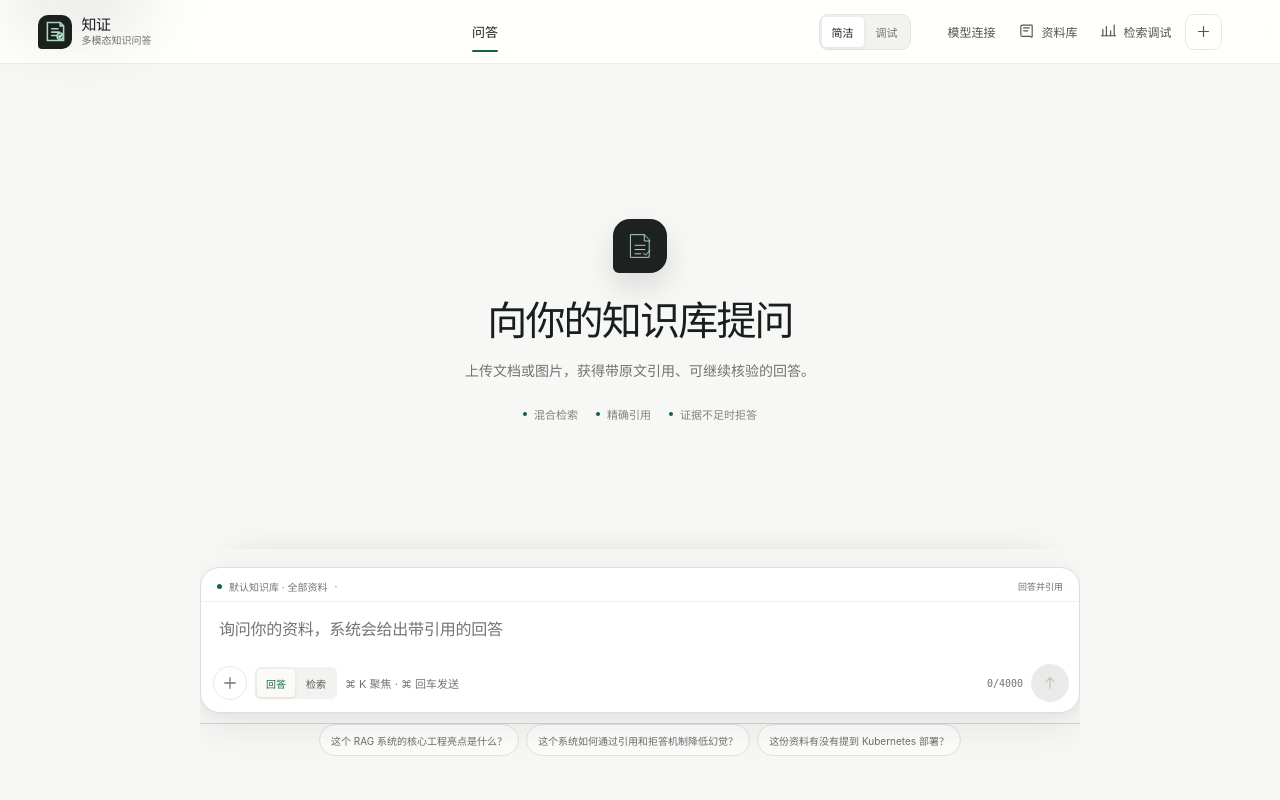
Test: WorkbenchPage workflows › keeps retrieved evidence visible when the answer provider returns no body
Type "只保留证据时应如何呈现？" into the text box named "question".
click(640, 629); type("只保留证据时应如何呈现？")  # box x1=201 y1=602 x2=1079 y2=656
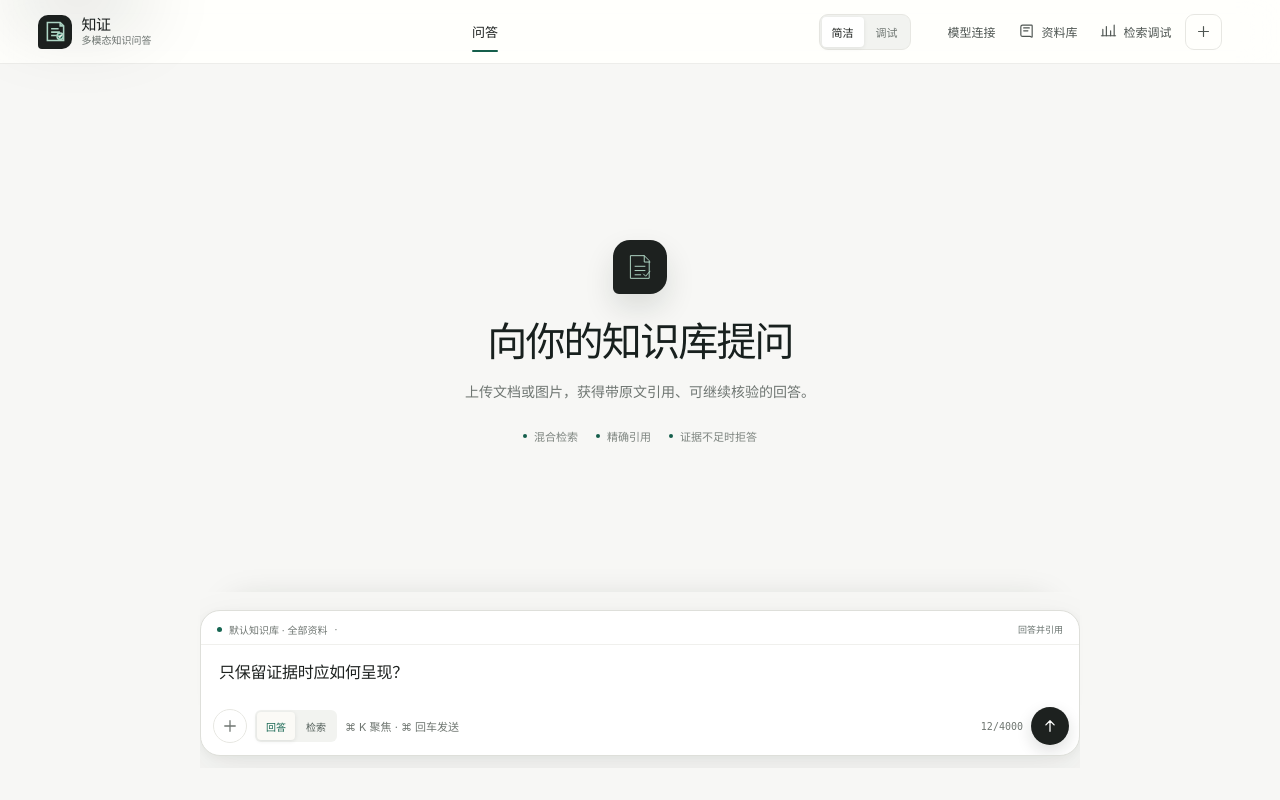
Click the button with test id "run-query".
click(1050, 726)  # box x1=1031 y1=707 x2=1069 y2=745
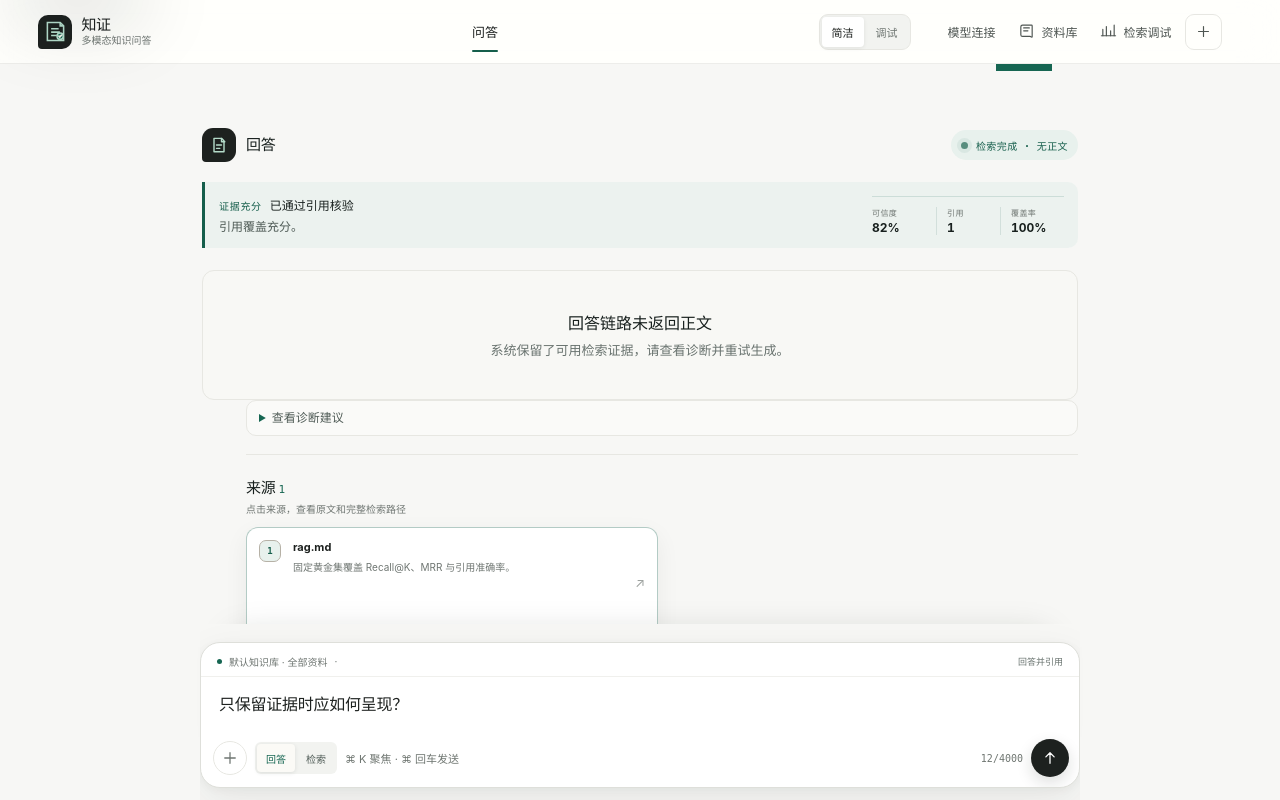
Now the message "检索完成 · 无正文" is shown, box x1=951 y1=130 x2=1078 y2=160
Now the text "回答链路未返回正文" is shown, box x1=568 y1=310 x2=712 y2=334
Now the text "来源" is shown, box x1=246 y1=478 x2=278 y2=497
